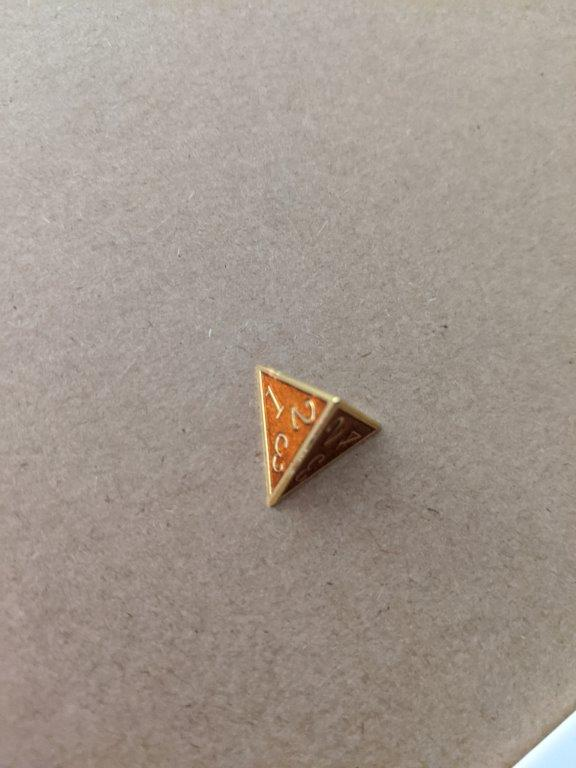d4-2: (251, 360, 384, 510)
